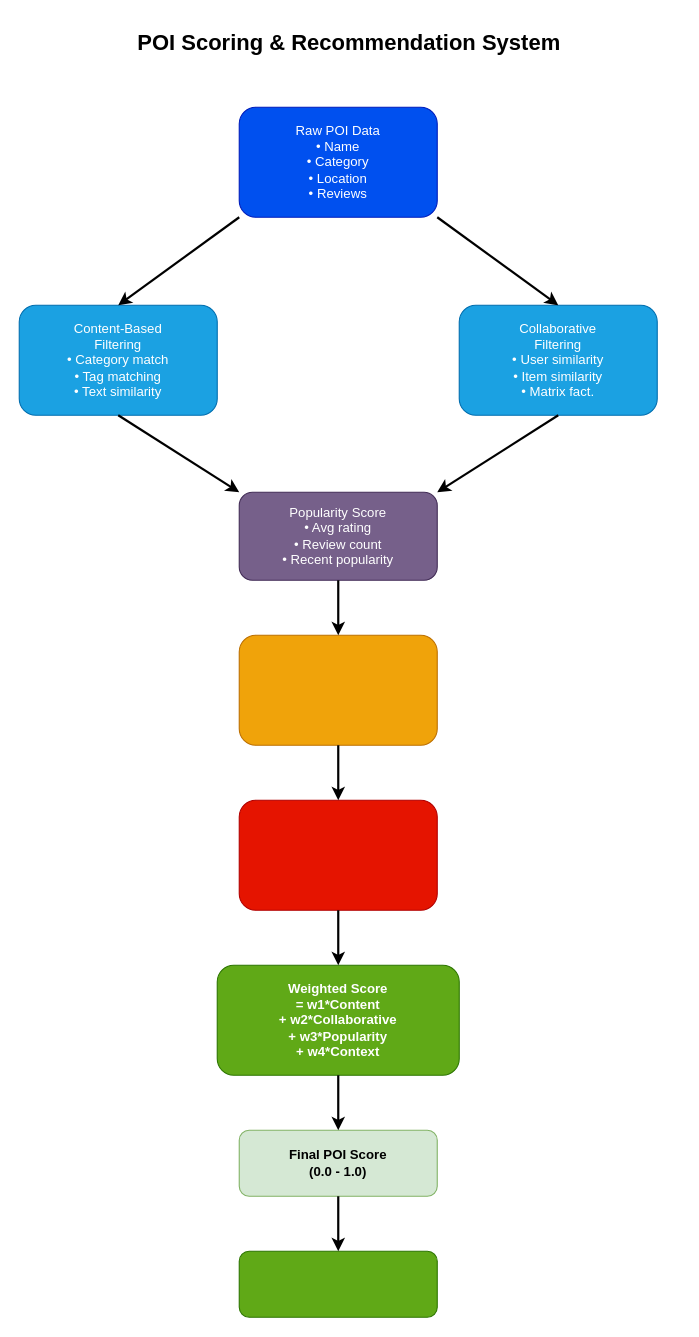
Image size: 699x1337. Some labels were removed from this diagram. Here are the shapes that lost their labels. From the top down, the centre of each, then its label:
At point 337,689: "Context Factors • Time of day • Season • Weather • Day of week".
At point 337,854: "Constraint Checking • Budget • Time available • Accessibility • Age appropriate".
At point 337,1283: "Ranking & Selection for Optimization".
